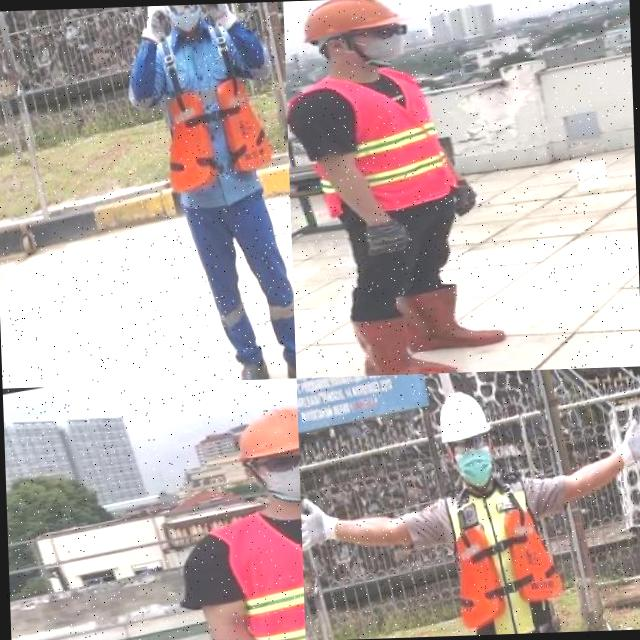boots: (397, 272, 515, 358), (340, 299, 460, 376), (230, 352, 275, 380)
helmet: (292, 0, 401, 42), (229, 399, 299, 463), (424, 387, 486, 447)
vest: (286, 59, 457, 222), (441, 470, 569, 636), (215, 490, 305, 640), (157, 79, 276, 191)
